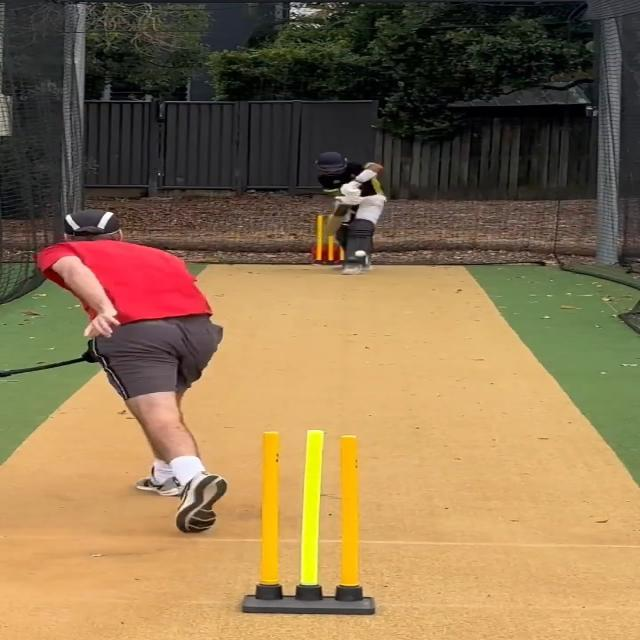ball: (352, 248, 368, 258)
stump: (238, 429, 376, 613)
